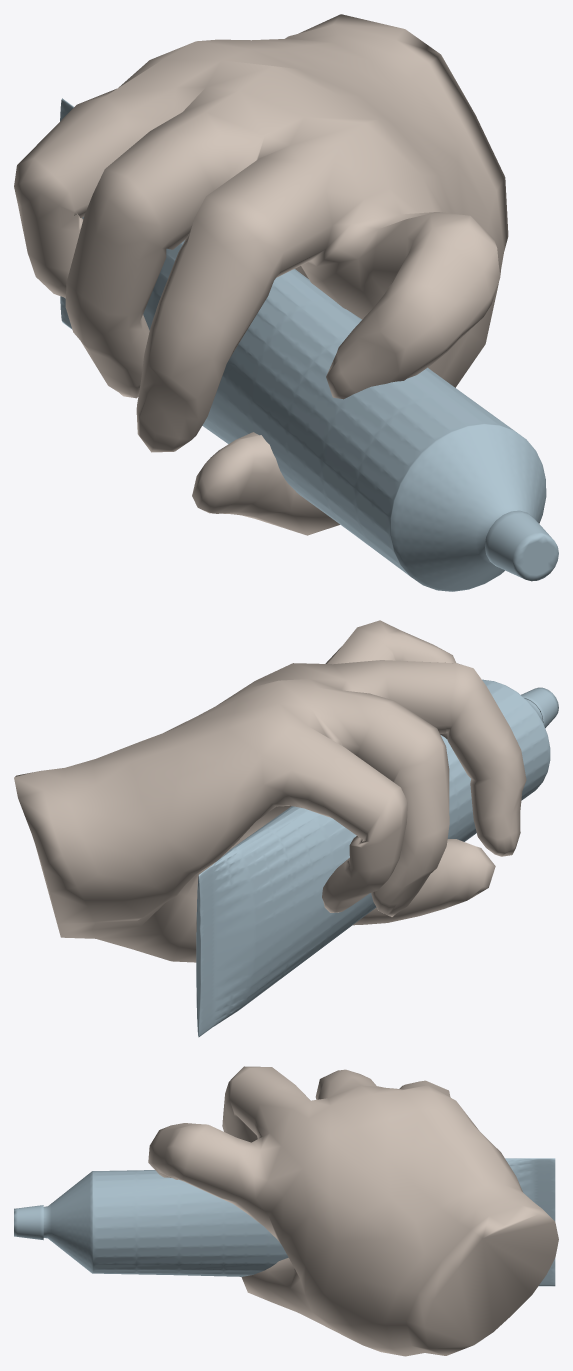
Rendered from grasp_0.glb.
The picture shows the model from 3 angles, top to bottom: view 1: azimuth 30°, elevation 25°; view 2: azimuth 150°, elevation 25°; view 3: azimuth 270°, elevation 25°; orthographic projection. The views are drawn at different scales.
Size of the model in its own units: 0.1268 by 0.093 by 0.2034.
